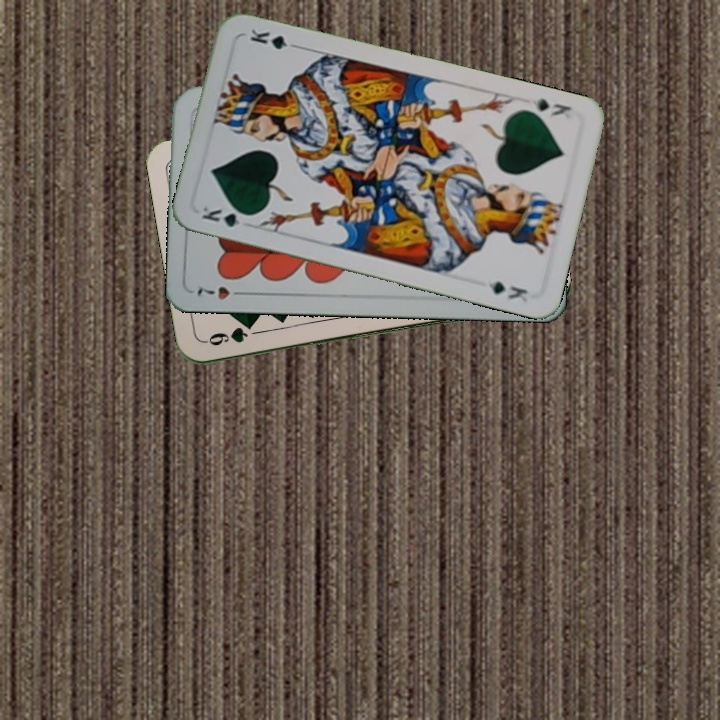G9: (201, 323, 251, 349)
GK: (198, 202, 256, 230), (528, 94, 575, 120)
H7: (193, 282, 250, 302)
